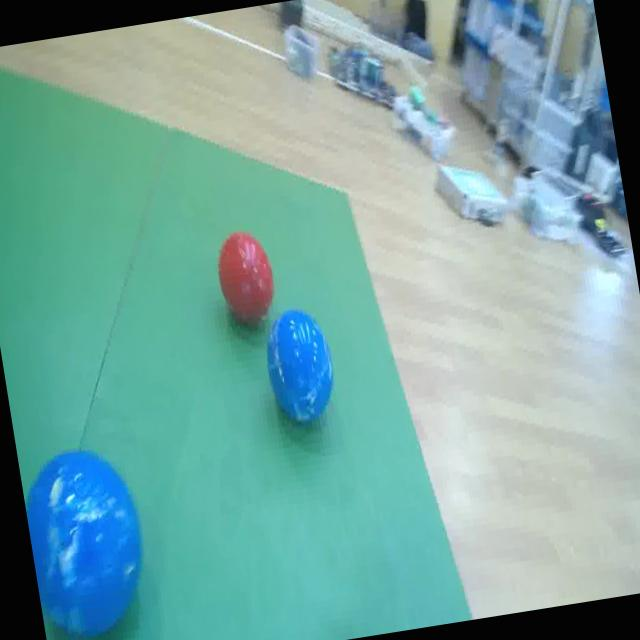blue_ball: (16, 431, 165, 640), (256, 302, 346, 438)
red_ball: (211, 218, 285, 328)
